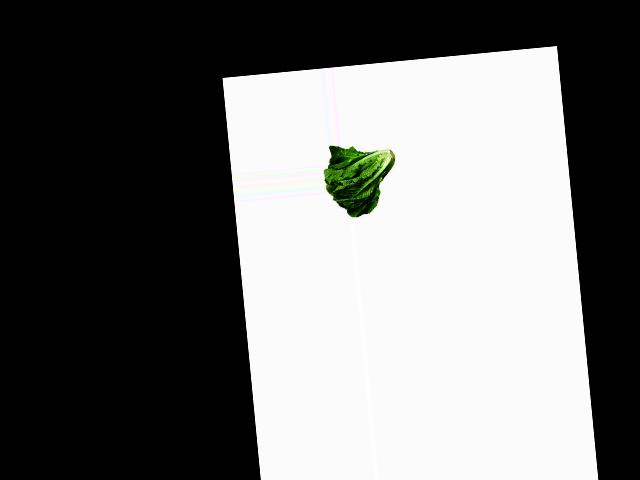lettuce: (321, 140, 403, 221)
